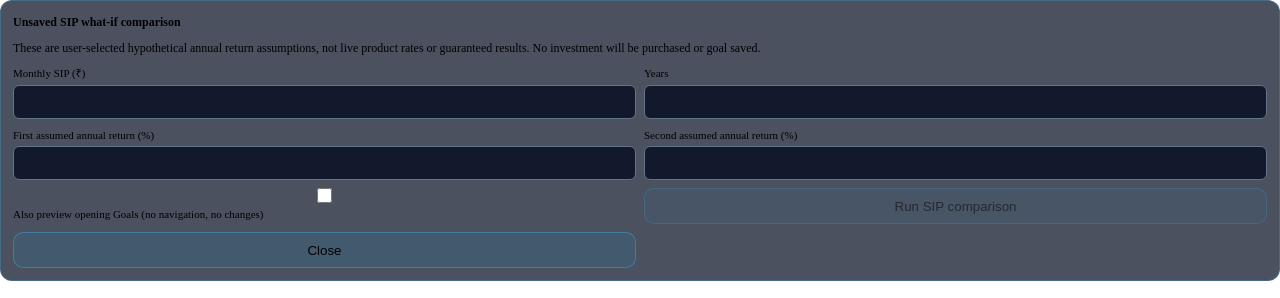
Test: Sovereign SIP comparison › never submits invalid or missing assumptions
This screenshot has width=1280, height=298.
Check: the button "Run SIP comparison" is disabled, box x1=644 y1=188 x2=1267 y2=224
Type "5000" into the number field named "Monthly SIP amount".
click(324, 102); type("5000")  # box x1=13 y1=84 x2=636 y2=118
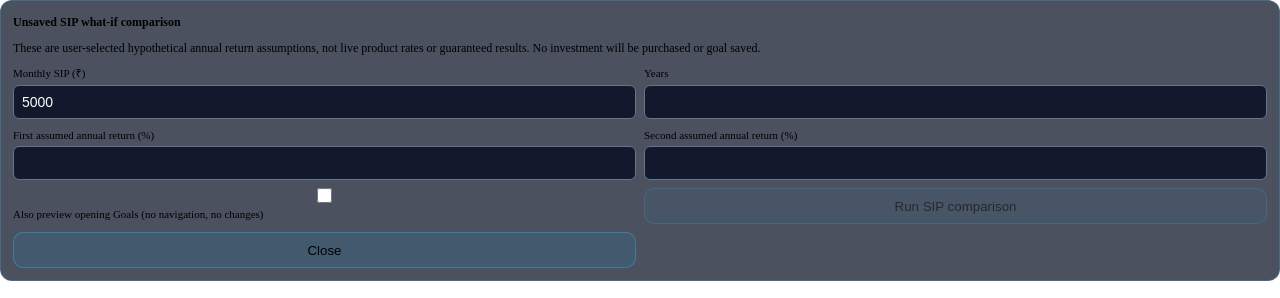
Type "10" into the number field named "SIP years".
click(956, 102); type("10")  # box x1=644 y1=84 x2=1267 y2=118
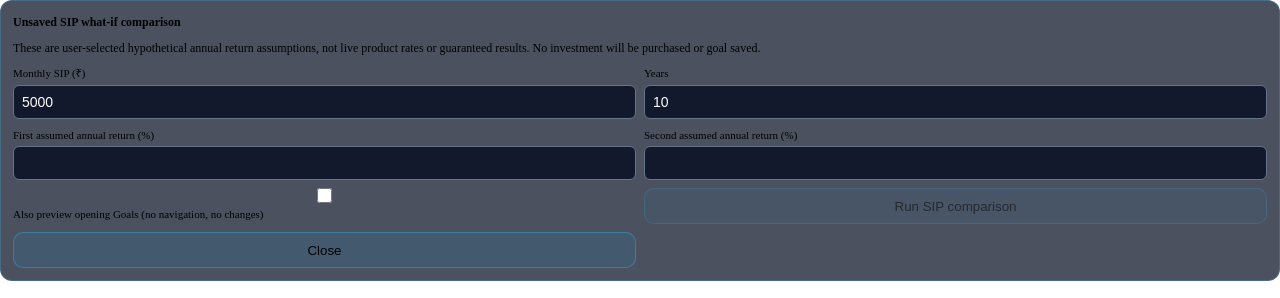
Type "7" into the number field named "First annual return assumption".
click(324, 163); type("7")  # box x1=13 y1=146 x2=636 y2=180
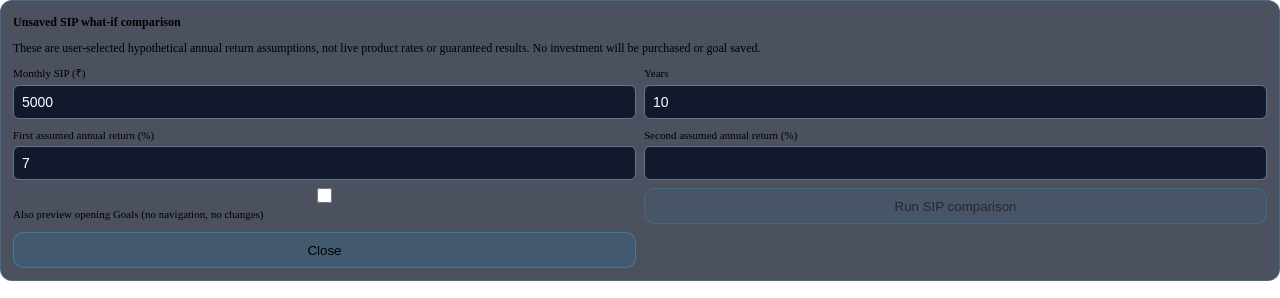
Type "10" into the number field named "Second annual return assumption".
click(956, 163); type("10")  # box x1=644 y1=146 x2=1267 y2=180
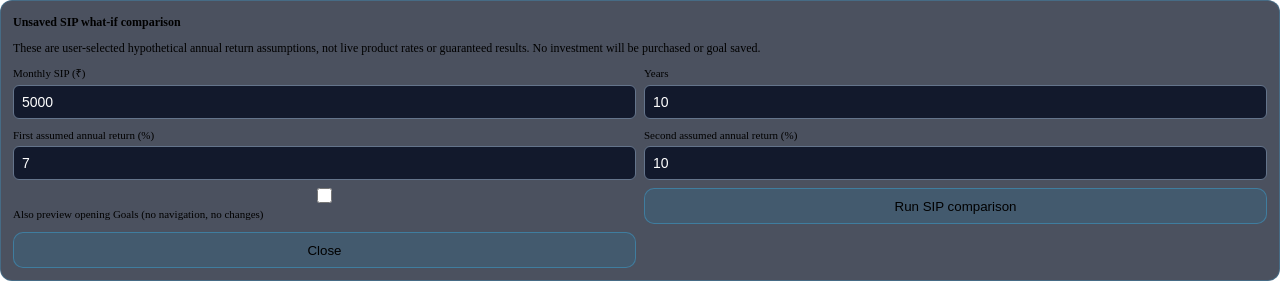
Check: the button "Run SIP comparison" is enabled, box x1=644 y1=188 x2=1267 y2=224
Replace the text in the number field named "Second annual return assumption" with "7" at [956, 163], box x1=644 y1=146 x2=1267 y2=180
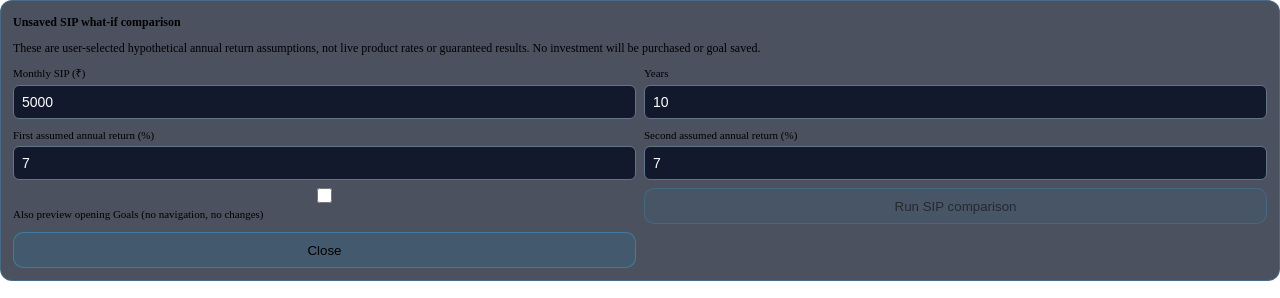
Check: the button "Run SIP comparison" is disabled, box x1=644 y1=188 x2=1267 y2=224
